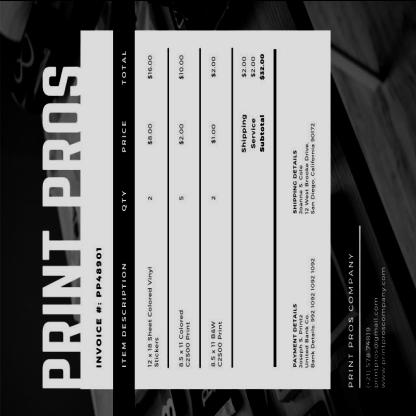Paragraph: (38, 59, 87, 393), (345, 222, 388, 390), (236, 48, 269, 158), (290, 254, 318, 370), (289, 120, 317, 218), (92, 242, 104, 372)
Table: (113, 46, 233, 375)
